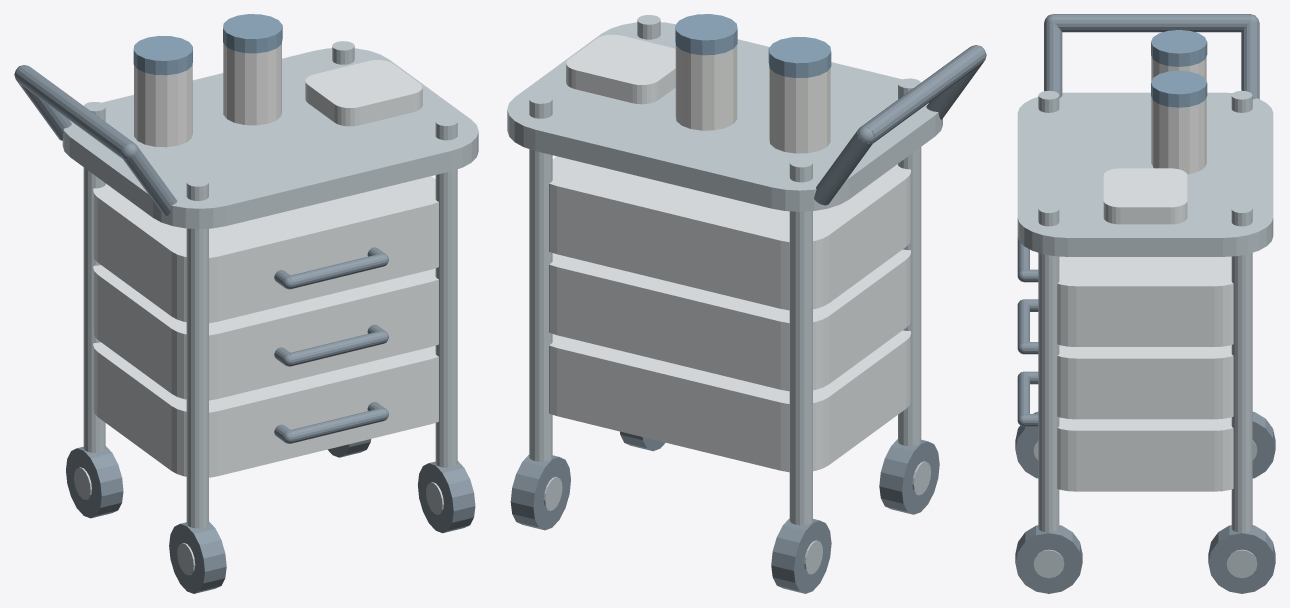
File: hospital_medicine_cart.glb
3 renders of one model, left to right at view 1: azimuth 30°, elevation 25°; view 2: azimuth 150°, elevation 25°; view 3: azimuth 270°, elevation 25°, orthographic. The views are drawn at different scales.
Parts seen in each view (by area): view 1: decor_d4dfe3_matte, decor_9aadb8_metal, decor_455665_metal, decor_d8dcd8_matte, decor_476a8a_matte; view 2: decor_d4dfe3_matte, decor_9aadb8_metal, decor_455665_metal, decor_d8dcd8_matte, decor_476a8a_matte; view 3: decor_d4dfe3_matte, decor_9aadb8_metal, decor_455665_metal, decor_d8dcd8_matte, decor_476a8a_matte.
Boxes of the visible parts, bbox=[...] form: decor_d4dfe3_matte: bbox=[93, 60, 438, 477]; decor_9aadb8_metal: bbox=[62, 41, 478, 575]; decor_455665_metal: bbox=[14, 65, 475, 593]; decor_d8dcd8_matte: bbox=[134, 43, 281, 147]; decor_476a8a_matte: bbox=[133, 14, 282, 75]; decor_d4dfe3_matte: bbox=[549, 34, 911, 472]; decor_9aadb8_metal: bbox=[507, 15, 942, 574]; decor_455665_metal: bbox=[510, 45, 986, 593]; decor_d8dcd8_matte: bbox=[675, 44, 830, 153]; decor_476a8a_matte: bbox=[675, 14, 831, 77]; decor_d4dfe3_matte: bbox=[1057, 168, 1233, 491]; decor_9aadb8_metal: bbox=[1017, 90, 1273, 578]; decor_455665_metal: bbox=[1015, 14, 1275, 593]; decor_d8dcd8_matte: bbox=[1151, 56, 1206, 174]; decor_476a8a_matte: bbox=[1151, 30, 1207, 107].
Bounding box in the file's own units: 0.922 × 1.18 × 0.62.
